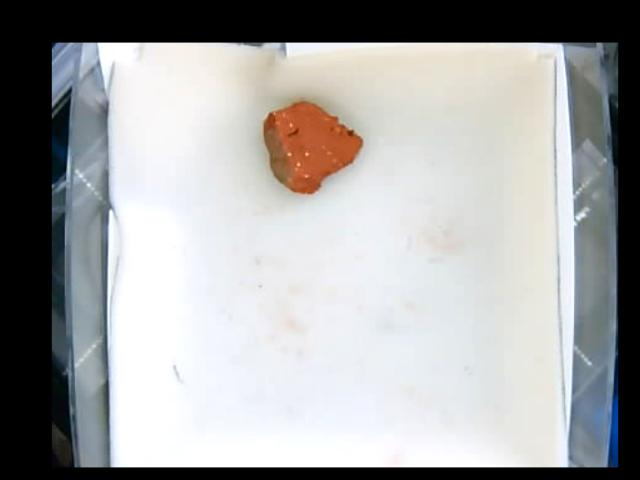Brisk: (264, 99, 361, 200)
